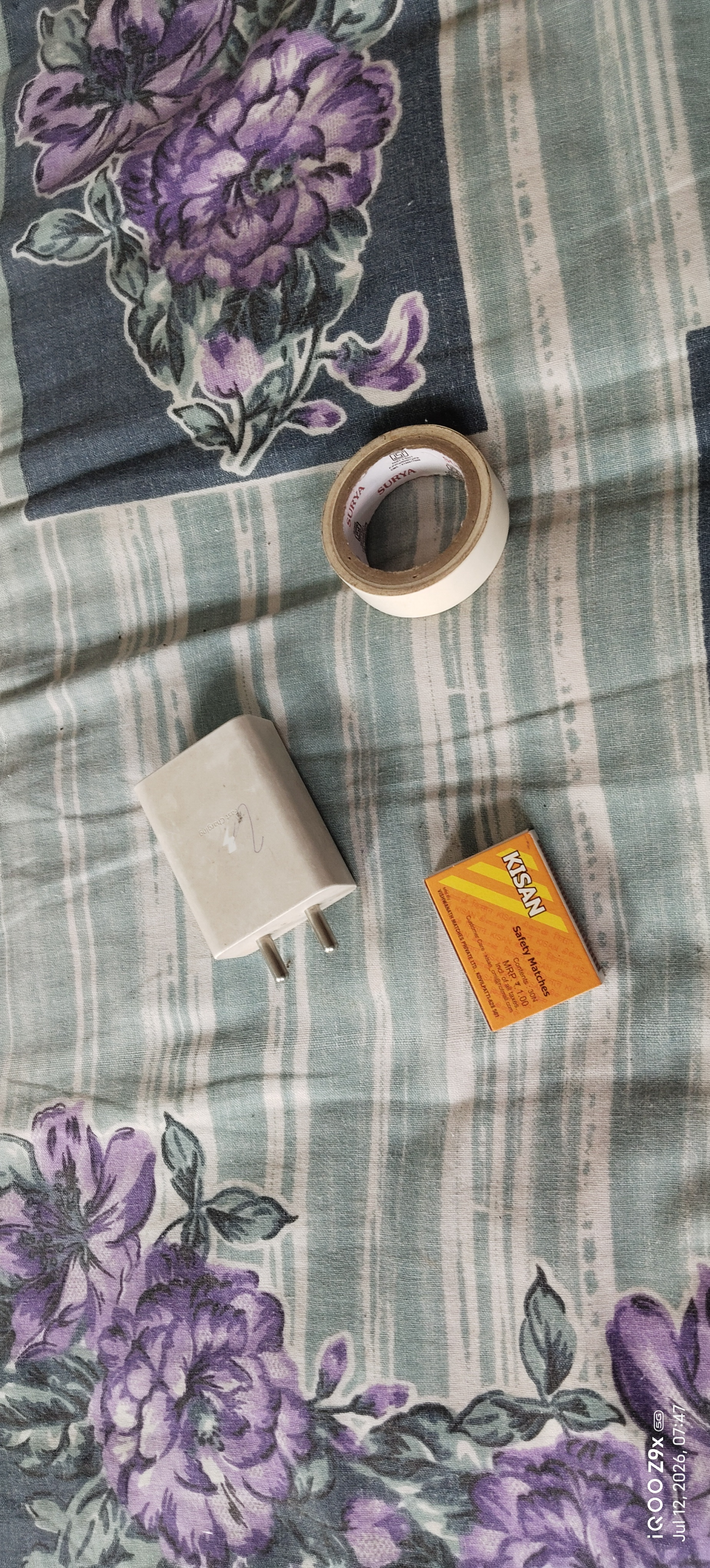charger: (106, 712, 378, 996)
matchbox: (405, 820, 618, 1041)
tape_roll: (286, 422, 529, 637)
